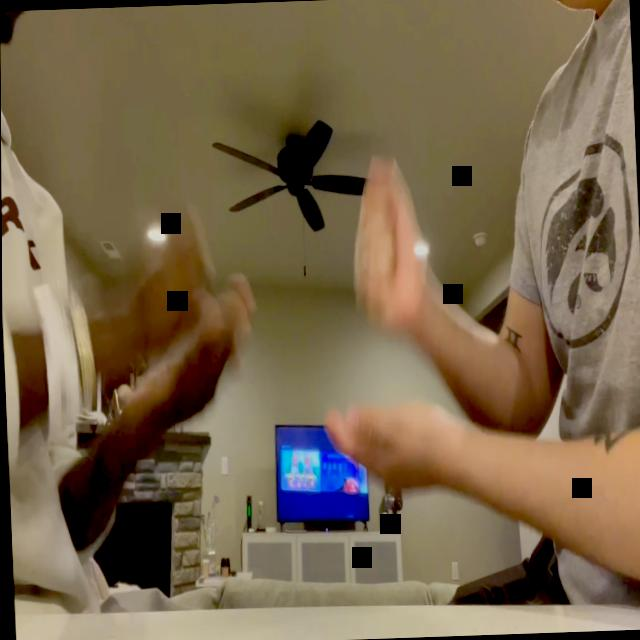Rock: (345, 152, 435, 342), (134, 214, 219, 360)
